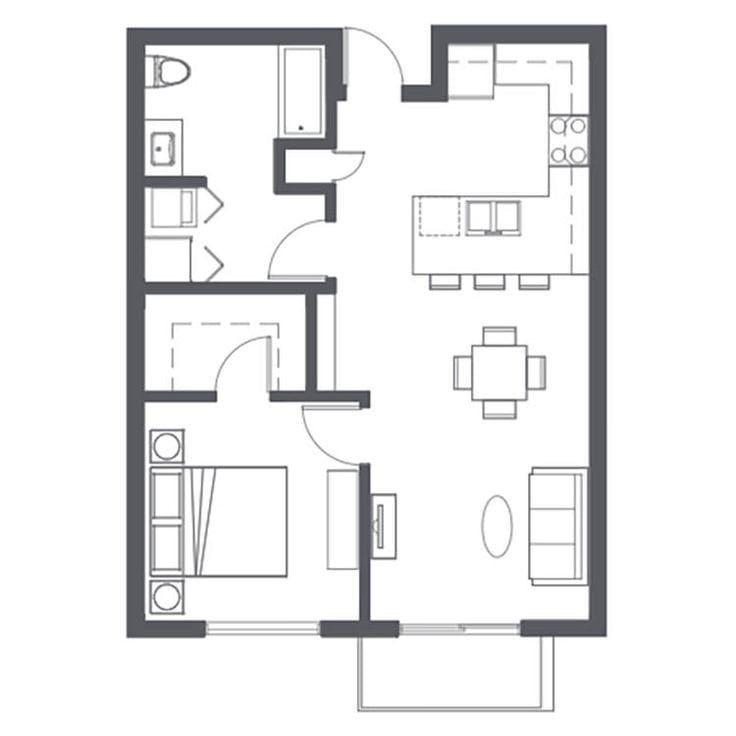wall: (588, 24, 607, 638), (126, 27, 145, 638), (126, 620, 607, 638), (126, 27, 343, 45), (431, 25, 607, 45), (325, 27, 337, 295), (126, 390, 371, 403), (359, 390, 371, 638), (126, 282, 337, 295), (325, 84, 449, 102), (305, 282, 318, 403), (431, 25, 448, 102), (126, 176, 208, 189), (273, 182, 337, 195), (273, 137, 337, 149), (273, 138, 286, 196)
